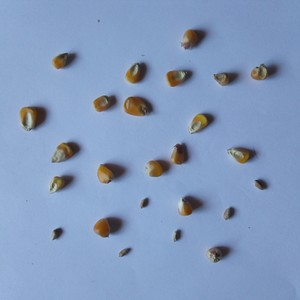maiz: (121, 95, 149, 117), (18, 103, 39, 132), (165, 67, 191, 89), (187, 111, 209, 136), (50, 142, 73, 165), (225, 145, 251, 165), (92, 215, 113, 239), (123, 60, 142, 85), (210, 70, 235, 88), (144, 158, 165, 179), (45, 174, 67, 194), (174, 196, 194, 218), (178, 27, 196, 51), (169, 141, 187, 165), (250, 62, 270, 83), (91, 94, 111, 115), (95, 162, 114, 183), (206, 246, 225, 267), (50, 51, 70, 69)
trigo: (251, 177, 270, 191), (222, 206, 238, 221), (51, 226, 64, 242), (171, 228, 183, 244), (119, 245, 133, 258), (138, 195, 150, 210)
